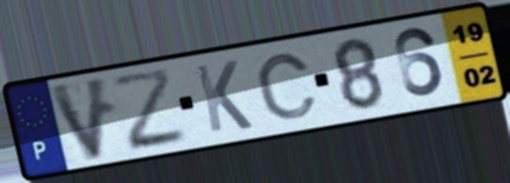6: (392, 24, 448, 102)
8: (330, 36, 387, 113)
C: (253, 51, 321, 122)
K: (191, 58, 256, 136)
V: (43, 73, 112, 165)
Z: (107, 64, 192, 154)
